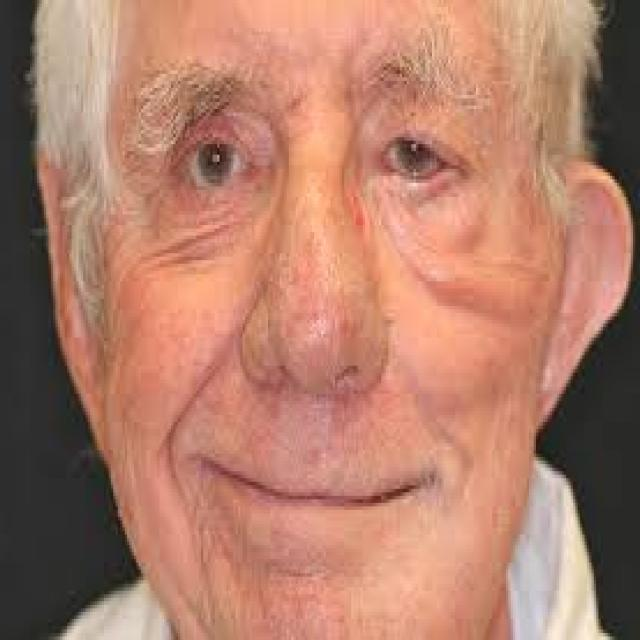stroke_face: (44, 7, 610, 640)
